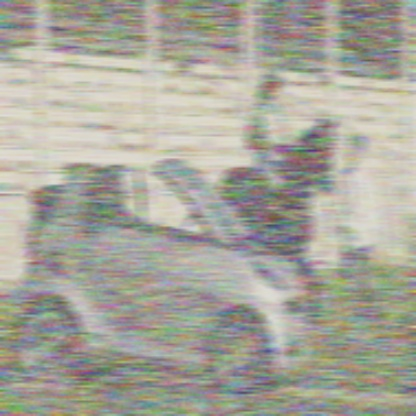Vehicle: (14, 159, 311, 396)
